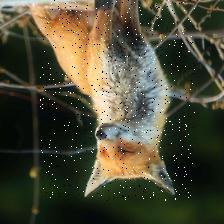fox: (40, 0, 195, 201)
